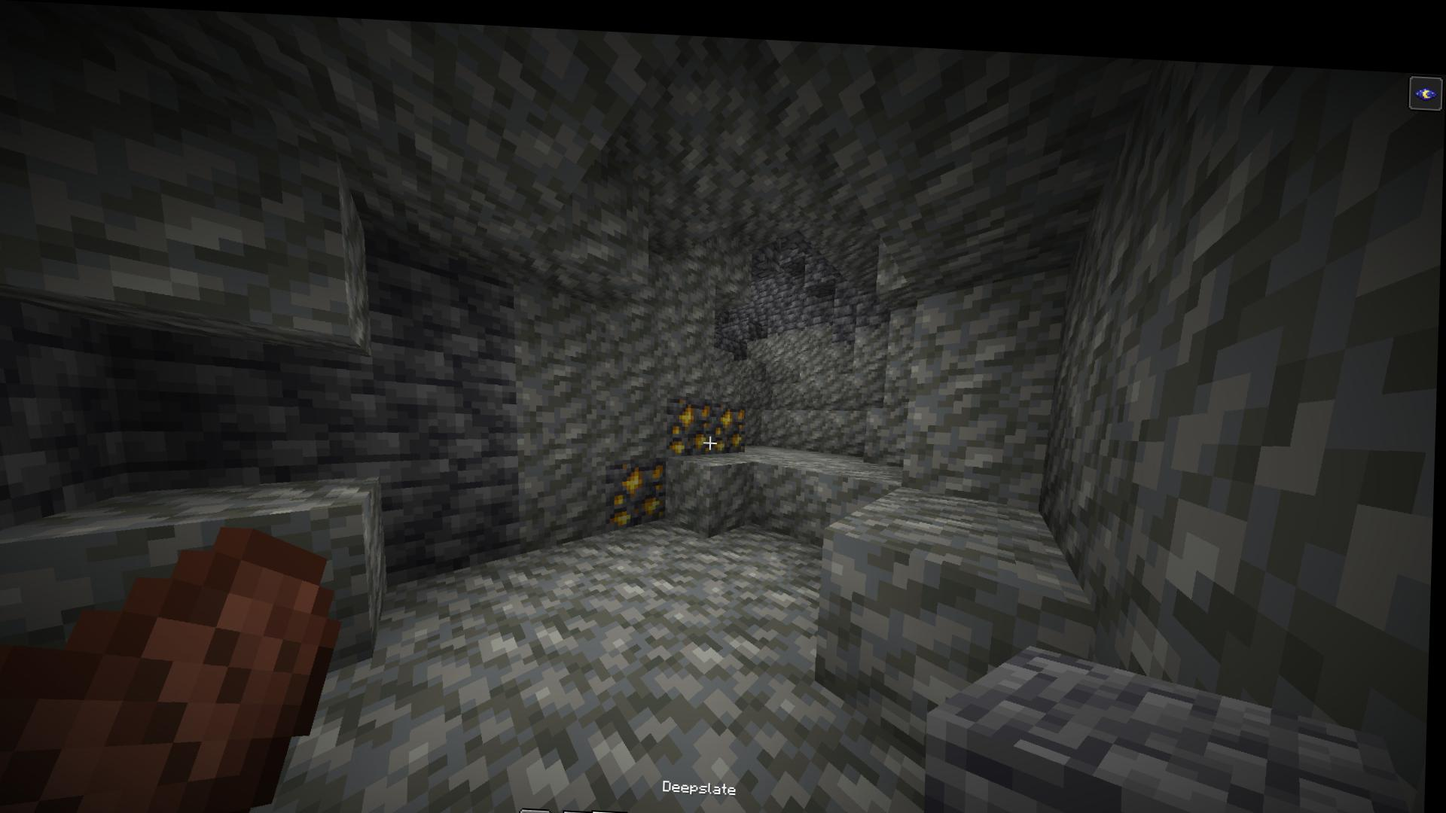gold ore: (610, 451, 670, 523), (668, 384, 713, 451), (710, 387, 752, 448)
